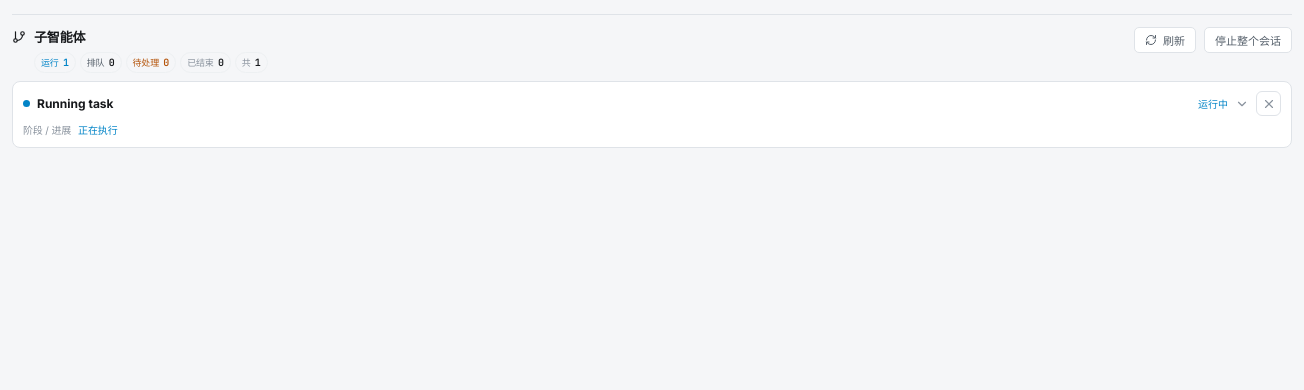
ChildTasksPane › surfaces a full follow-up queue rejection
Click the button with class "child-task-summary" at [75, 104], box [23, 96, 1249, 111]
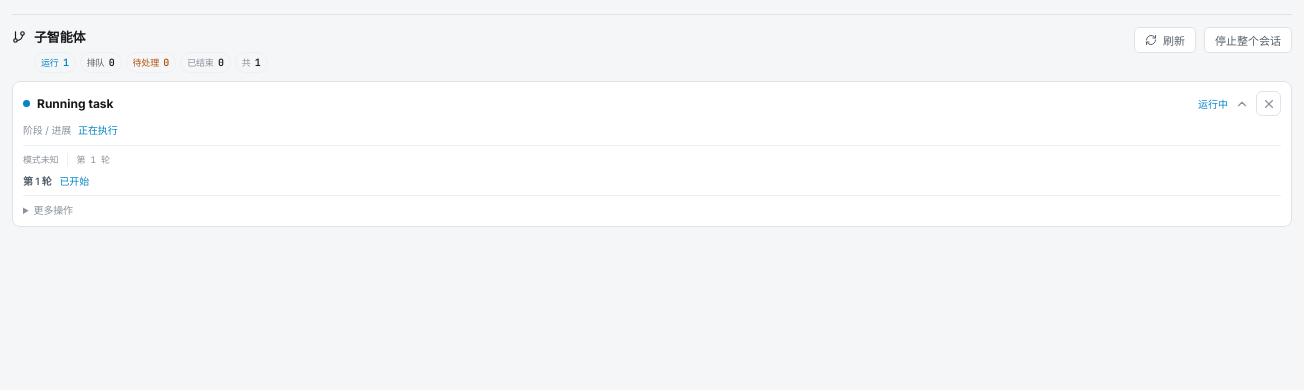
Click the heading "更多操作" at [53, 210], box [34, 204, 73, 216]
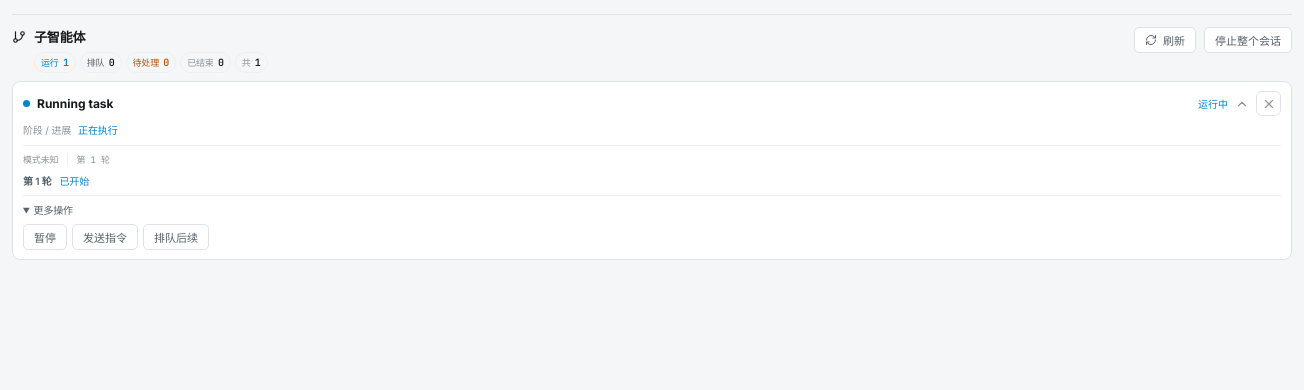
Click the button "排队后续" at [176, 236], box [143, 224, 209, 250]
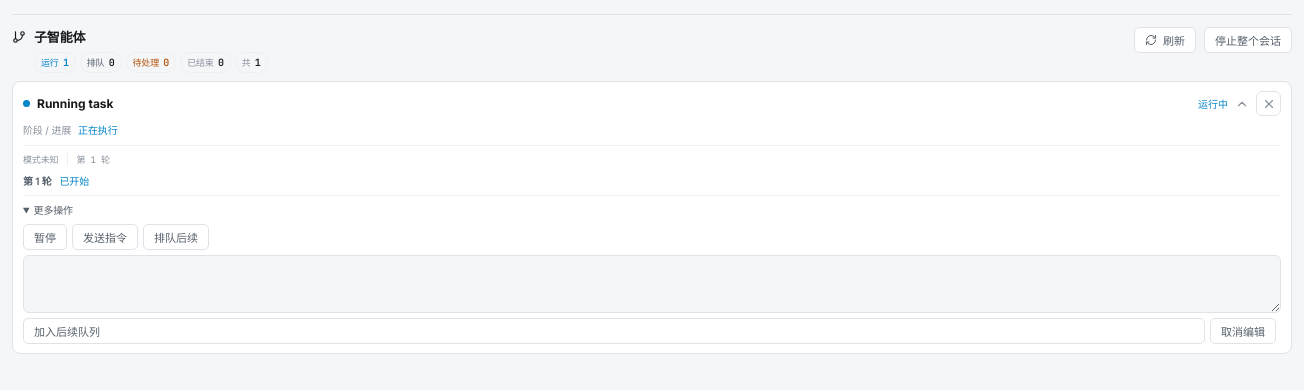
Type "Another instruction" into the text box named "子任务指令" at [652, 284], box [23, 254, 1281, 312]
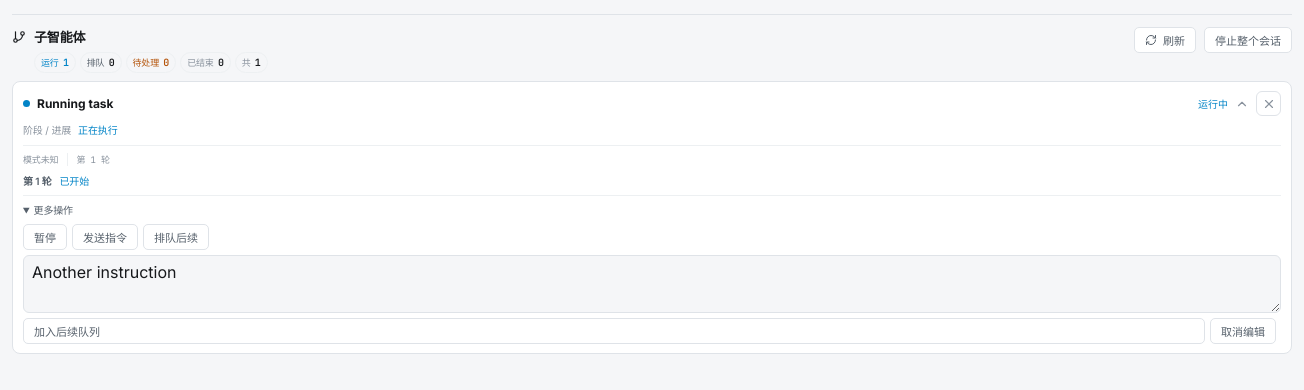
Click the button "加入后续队列" at [67, 332], box [23, 318, 1205, 344]
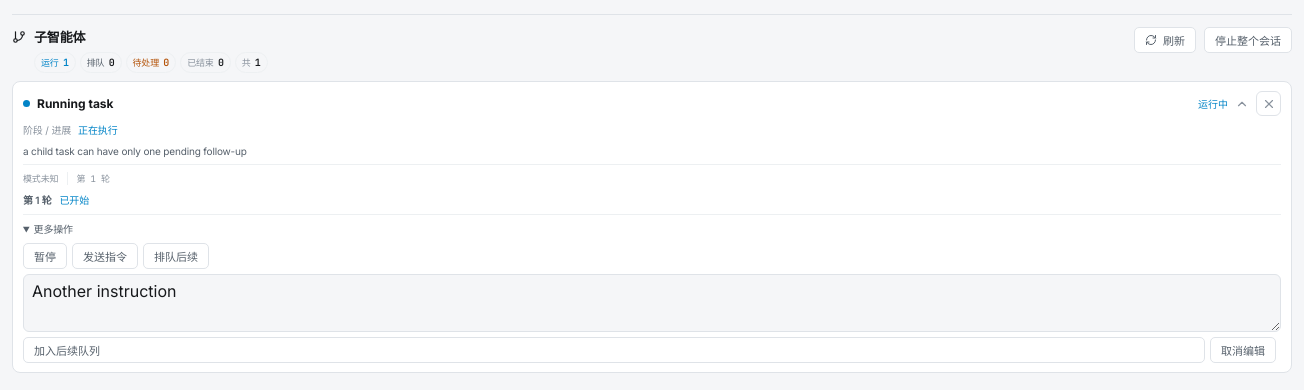
Now the message reads "a child task can have only one pending follow-up", box [23, 144, 247, 156]
